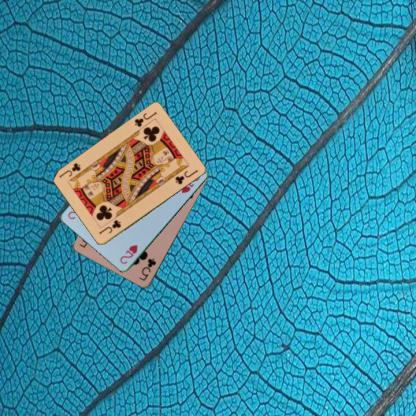2h: (117, 242, 139, 265)
5c: (136, 256, 158, 282)
Jc: (132, 109, 158, 128), (96, 218, 122, 236)
